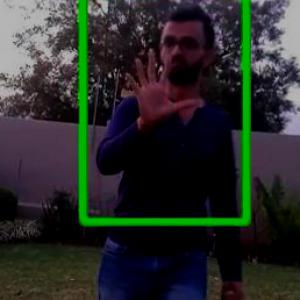follow_hand: (122, 40, 207, 126)
